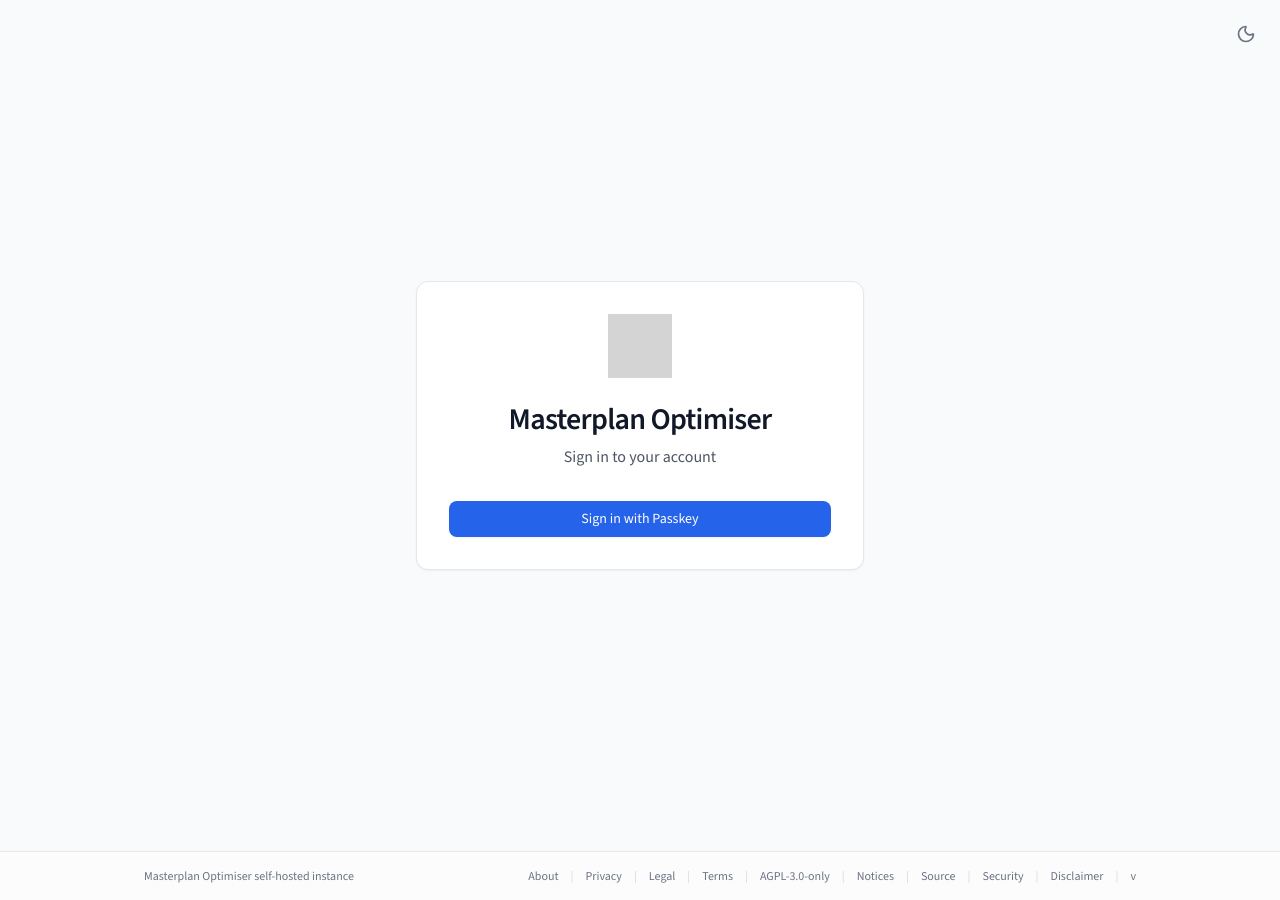
Test: LoginPage › shows discoverable-passkey guidance when the credential manager cannot find a passkey
Click the button "Sign in with Passkey" at (640, 519), box x1=449 y1=501 x2=831 y2=537
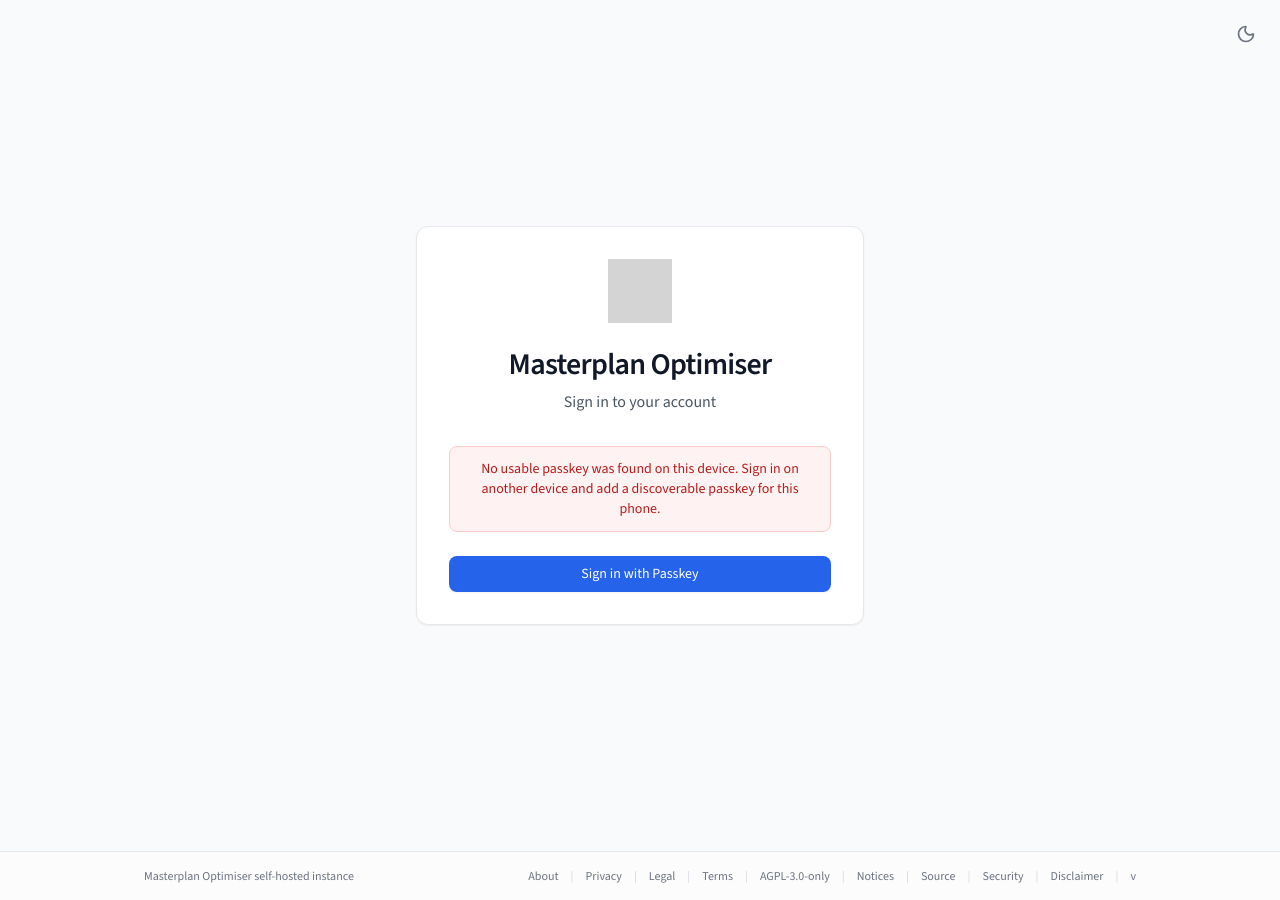
Now the text "No usable passkey was found on this device" is shown, box x1=481 y1=459 x2=799 y2=518
